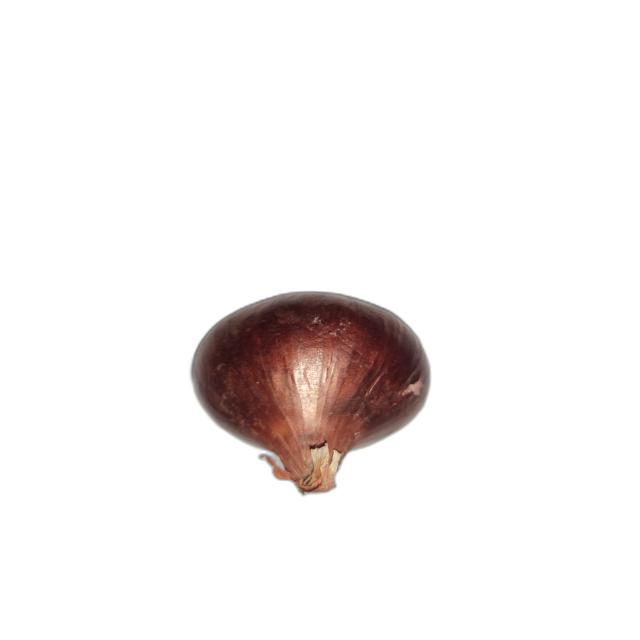onion: (190, 290, 432, 497)
